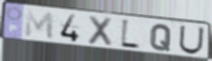4: (59, 13, 81, 43)
L: (119, 18, 141, 51)
M: (24, 9, 56, 42)
Q: (149, 23, 174, 53)
U: (178, 24, 206, 55)
X: (86, 14, 114, 49)
